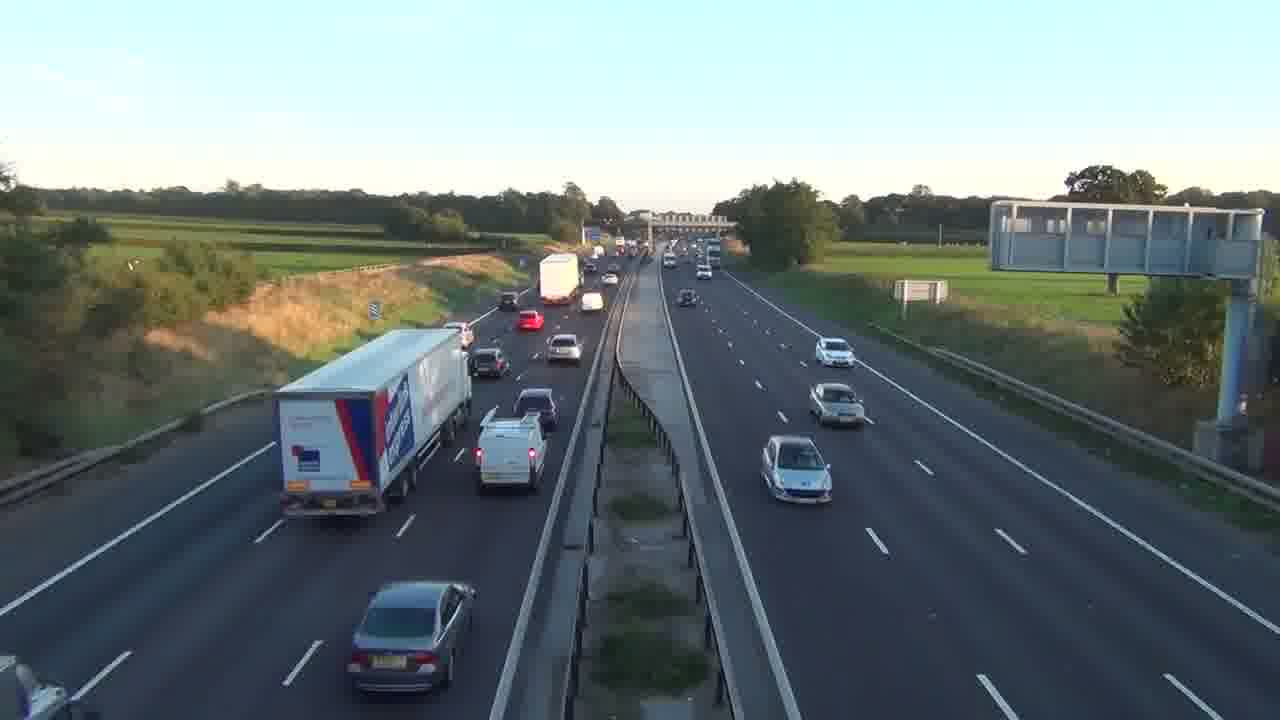car: (345, 578, 478, 700), (760, 434, 834, 504), (808, 381, 868, 428), (513, 387, 560, 432), (468, 347, 509, 380), (814, 336, 855, 368), (546, 333, 582, 365), (514, 309, 544, 331)
truck: (274, 325, 476, 518), (474, 413, 547, 496)
